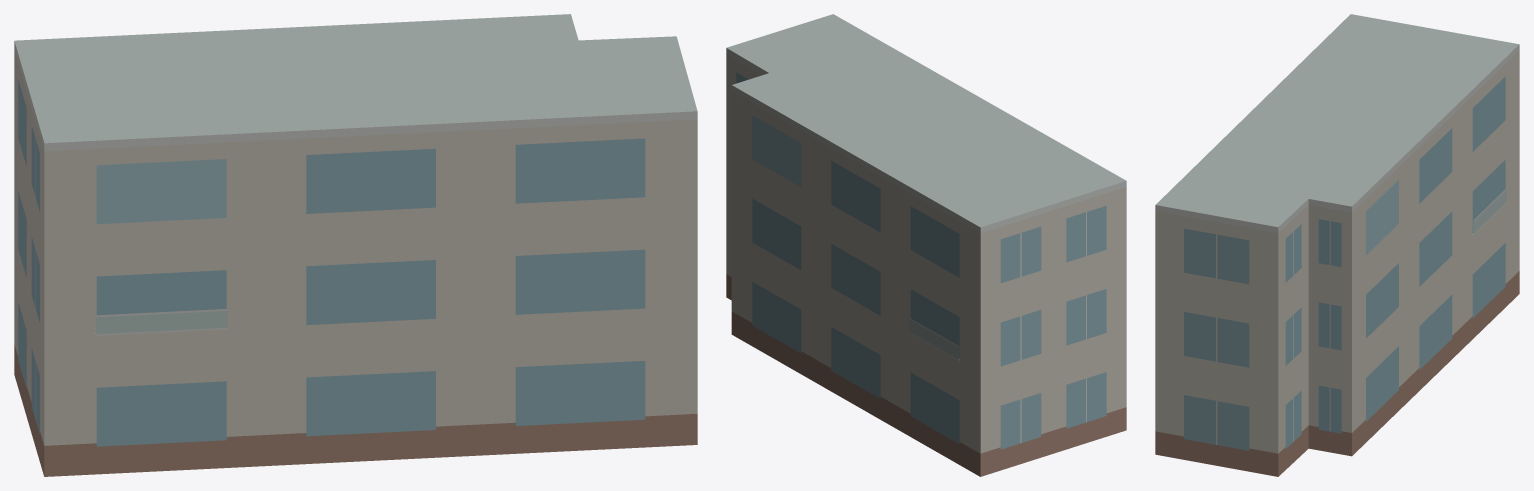
File: survey-upis-32686076.glb
The picture shows the model from 3 angles, left to right: view 1: azimuth 30°, elevation 25°; view 2: azimuth 150°, elevation 25°; view 3: azimuth 270°, elevation 25°; orthographic projection. The views are drawn at different scales.
Parts seen in each view (by area): view 1: survey-upis-32686076.tmp; view 2: survey-upis-32686076.tmp; view 3: survey-upis-32686076.tmp.
Boxes of the visible parts, box(x1,y1,x2,y2) form: survey-upis-32686076.tmp: box(14, 14, 697, 476); survey-upis-32686076.tmp: box(726, 14, 1126, 476); survey-upis-32686076.tmp: box(1155, 14, 1519, 476).
Bounding box in the file's own units: 18.69 × 10.2 × 13.49.
